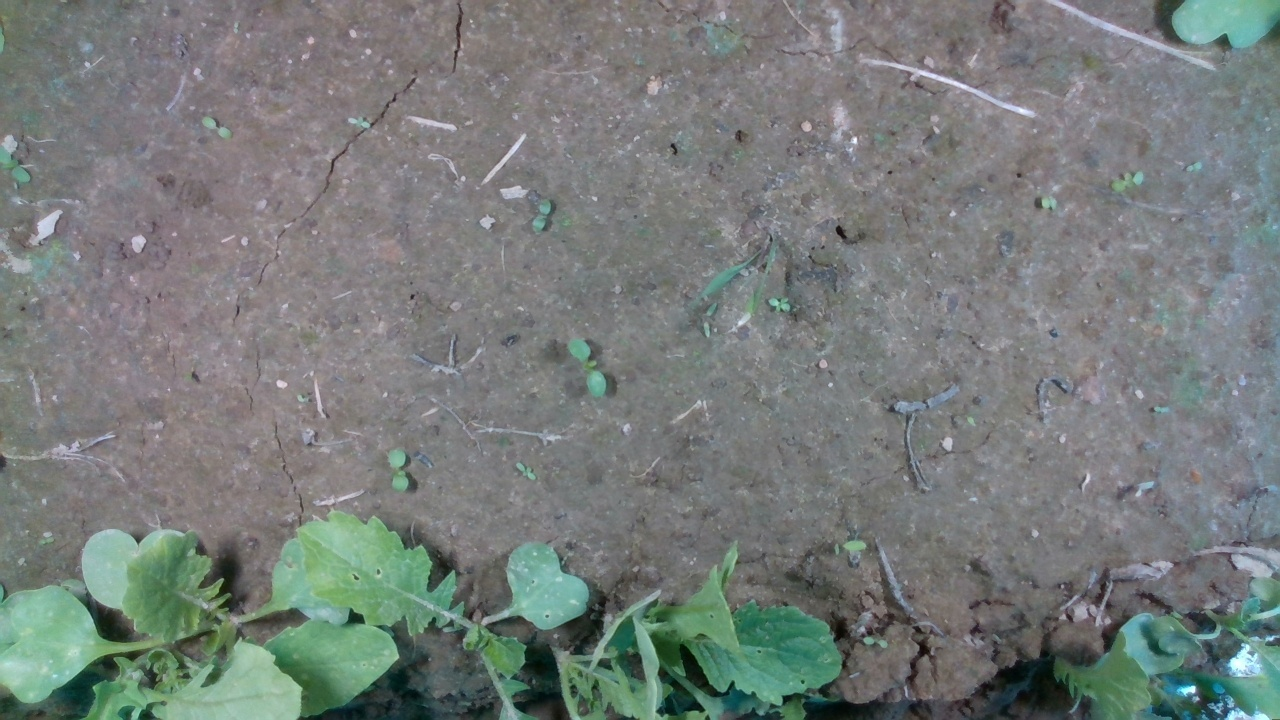weed: (566, 336, 608, 399), (384, 446, 410, 494), (1108, 169, 1145, 193), (200, 115, 234, 141), (530, 197, 552, 234), (702, 301, 719, 339), (767, 294, 795, 315), (514, 460, 537, 482), (346, 113, 372, 129), (1185, 160, 1205, 177), (1038, 195, 1059, 210)
